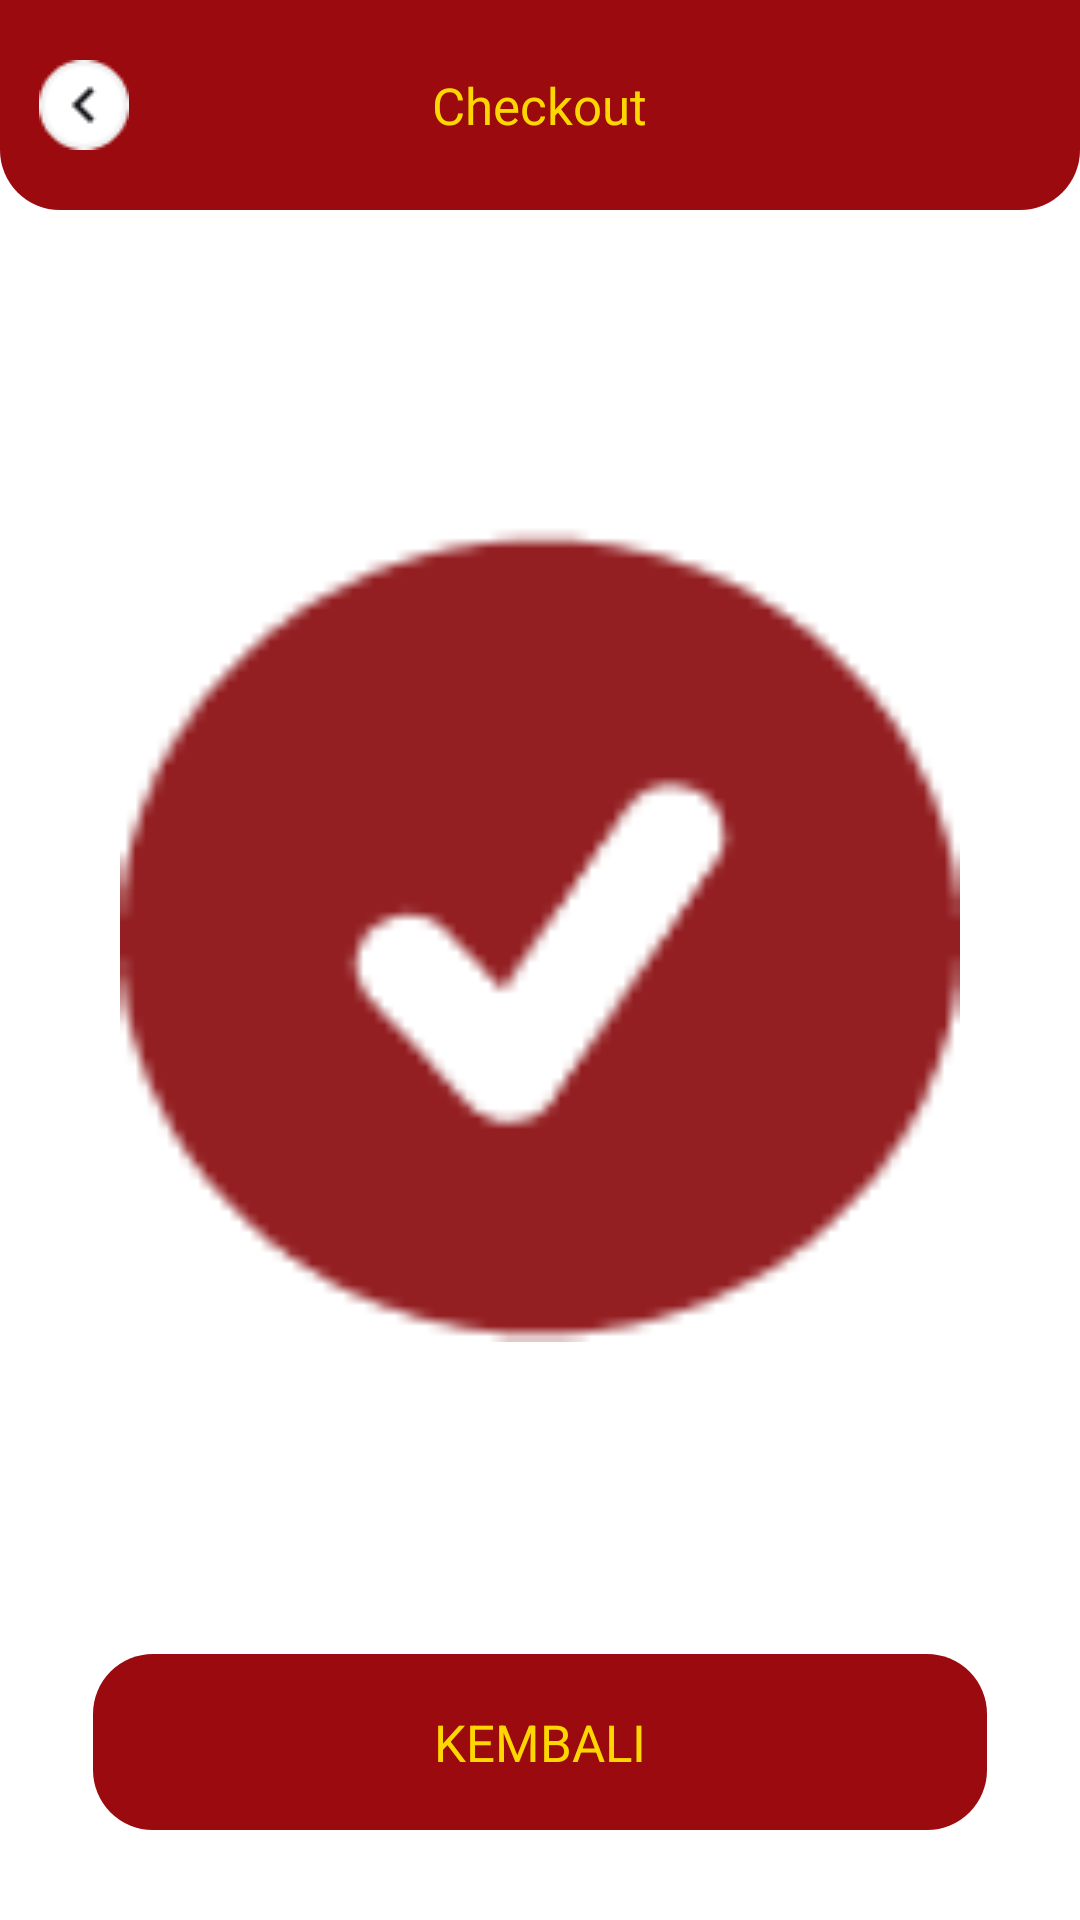

Icons on this 1080*1920 Android screen, each with the point to tap as [x,y]:
backarrow: [84,105]
